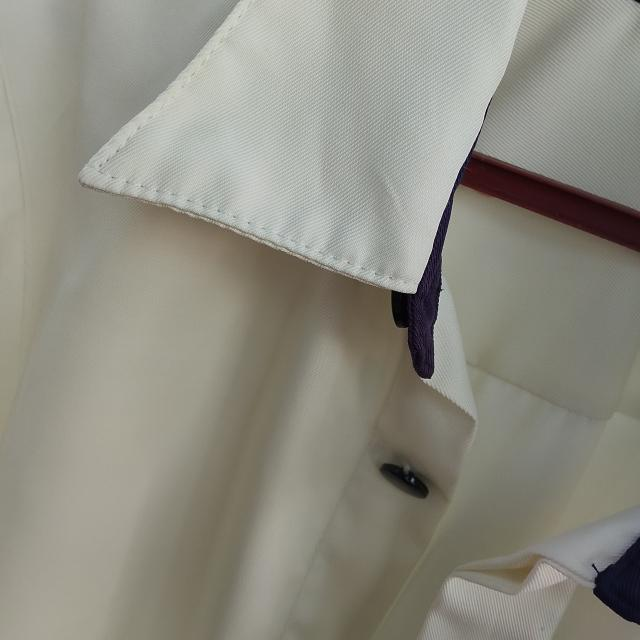education_male_uniform: (14, 13, 640, 640)
